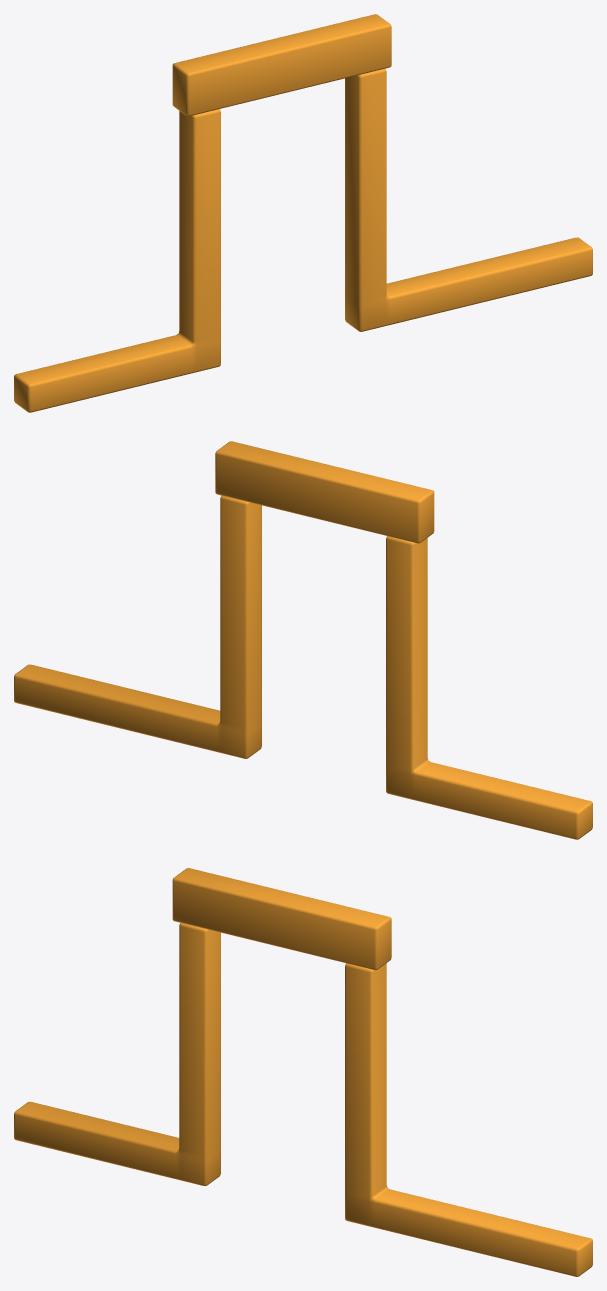
The model's file is FM_H_Doll_SH_Door_Border_001.fbx.
3 renders of one model, top to bottom at view 1: azimuth 30°, elevation 25°; view 2: azimuth 150°, elevation 25°; view 3: azimuth 330°, elevation 25°, orthographic.
Visible parts, largest first — view 1: FM_H_Doll_SH_Door_Border_001; view 2: FM_H_Doll_SH_Door_Border_001; view 3: FM_H_Doll_SH_Door_Border_001.
Part boxes in pixels (bbox=[...]): FM_H_Doll_SH_Door_Border_001: bbox=[14, 14, 592, 412]; FM_H_Doll_SH_Door_Border_001: bbox=[14, 441, 592, 839]; FM_H_Doll_SH_Door_Border_001: bbox=[14, 868, 592, 1276].
Bounding box in the file's own units: 4.64 × 2.36 × 0.2266.
